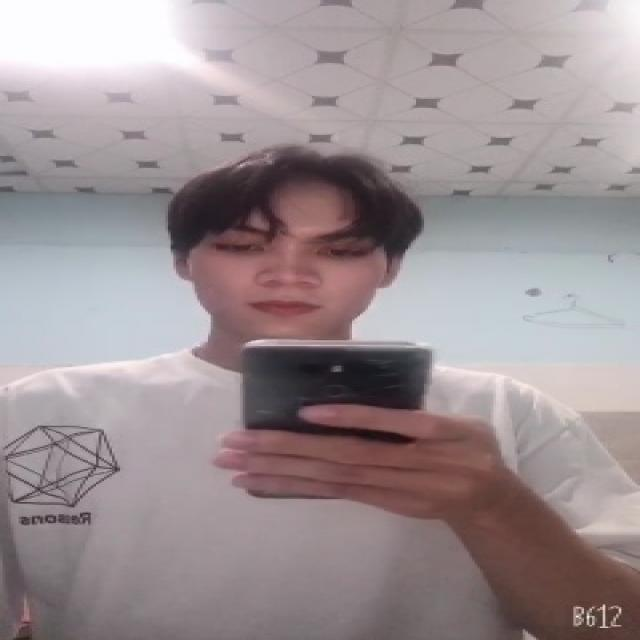Phone: (237, 332, 438, 434)
